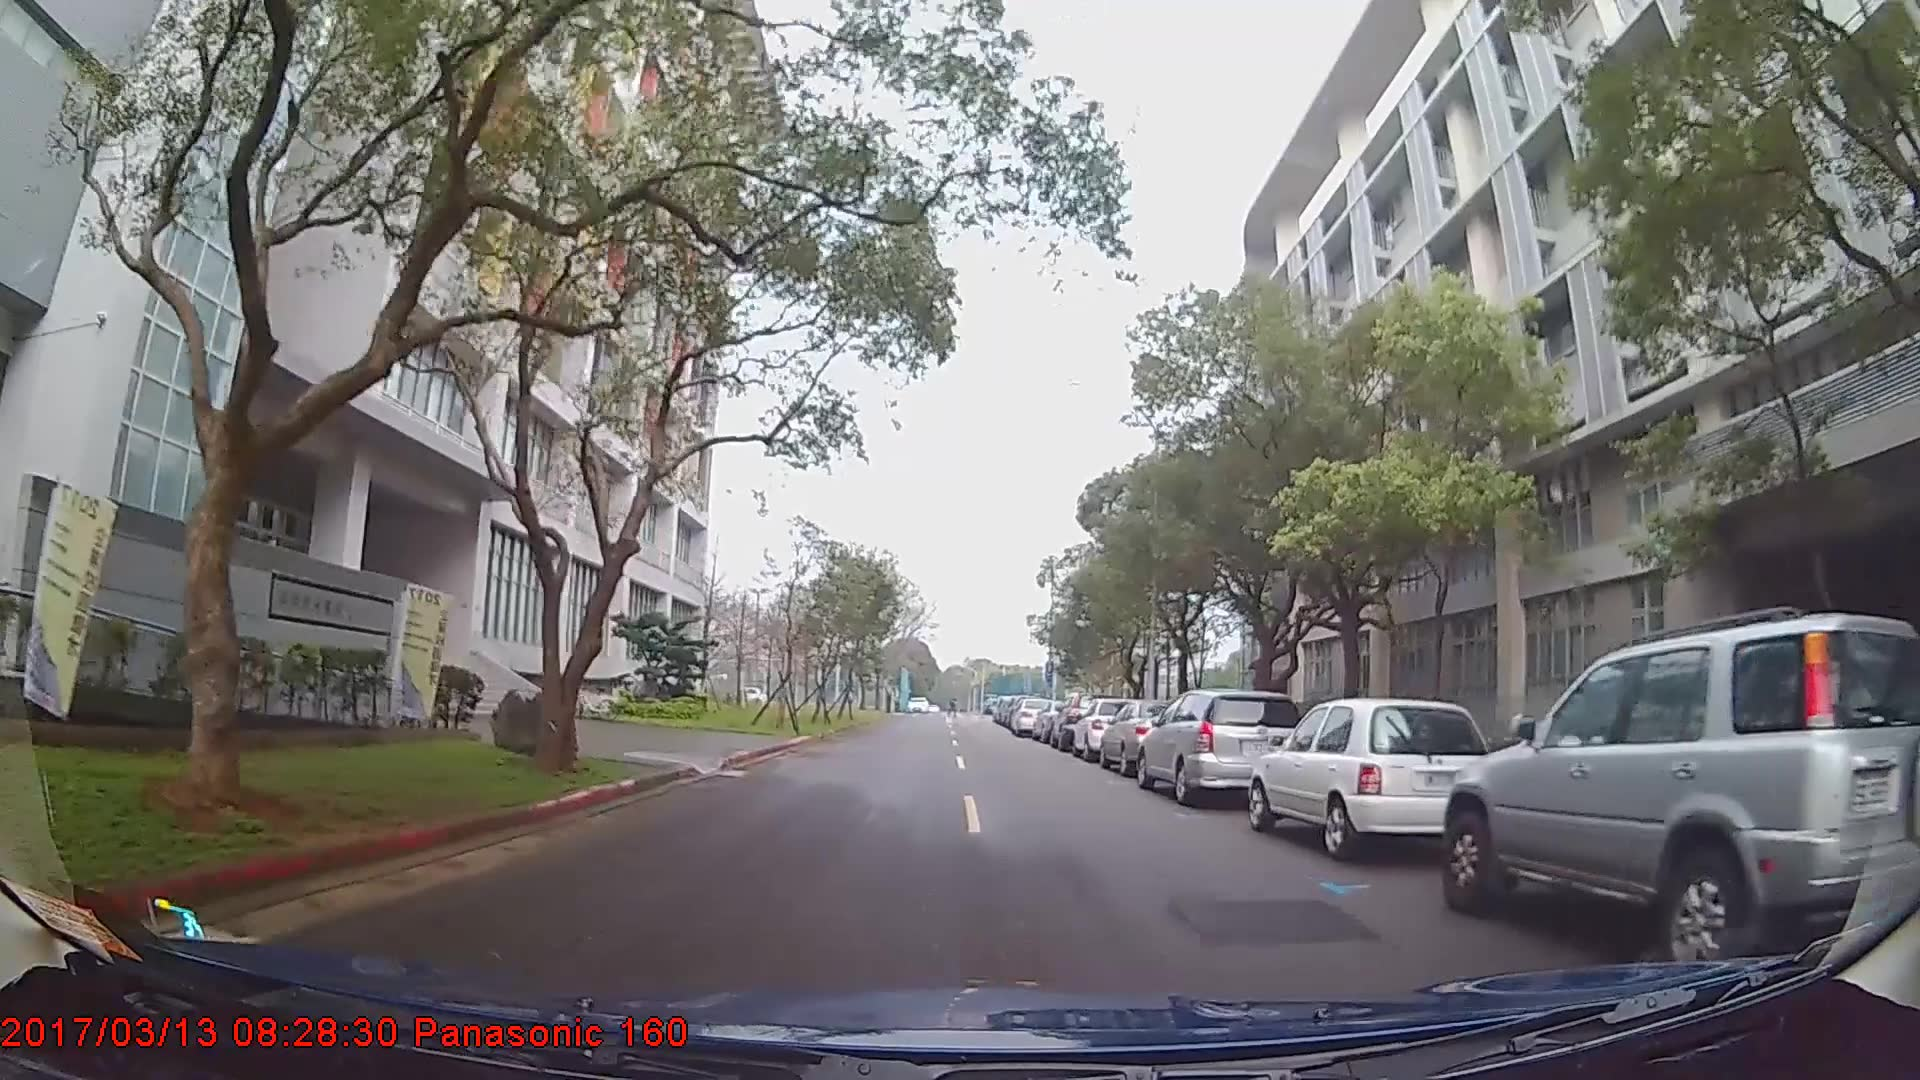vehicle: (1437, 609, 1920, 976), (1247, 695, 1495, 858), (1133, 688, 1309, 804), (1097, 694, 1196, 773), (1007, 694, 1055, 735)
